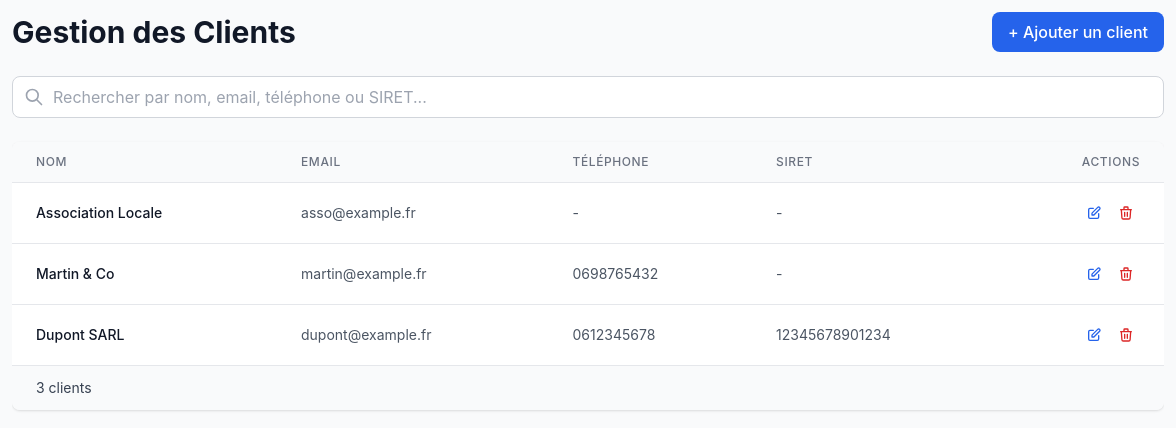
Clients page › filters clients when typing in search bar
The image size is (1176, 428).
In the field with placeholder "Rechercher par nom, email, téléphone ou SIRET...": coordinates (588, 97) top-left (12, 76), bottom-right (1164, 118), type "Dupont"
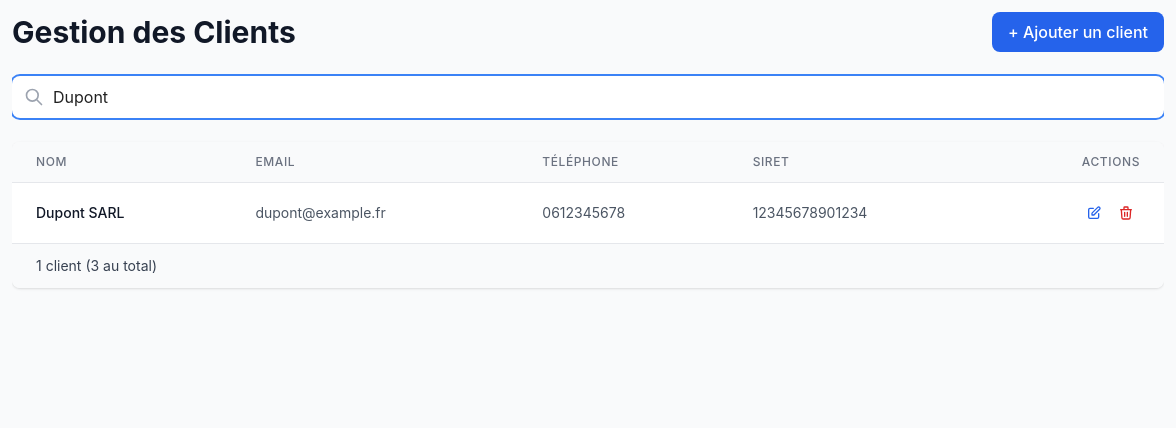
expect the text "Martin & Co" is gone: met
